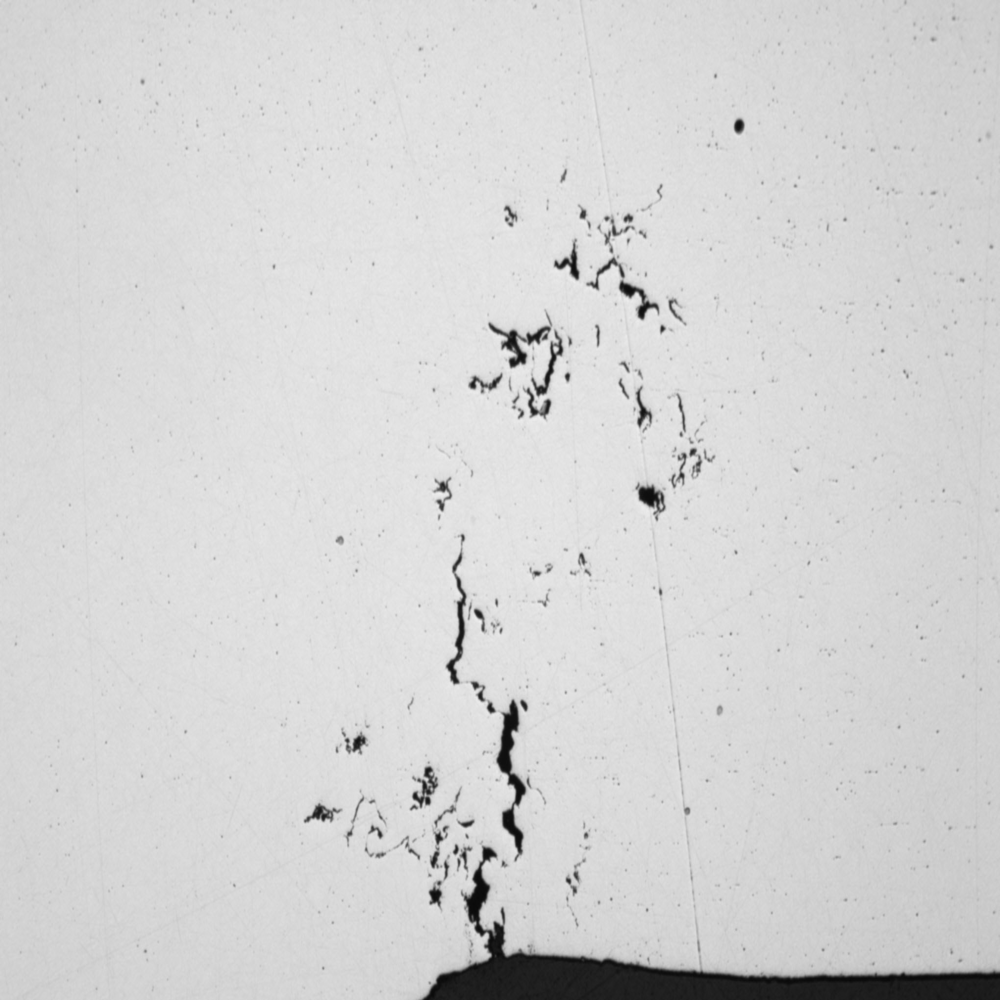crack: (224, 513, 588, 977), (425, 154, 766, 506)
